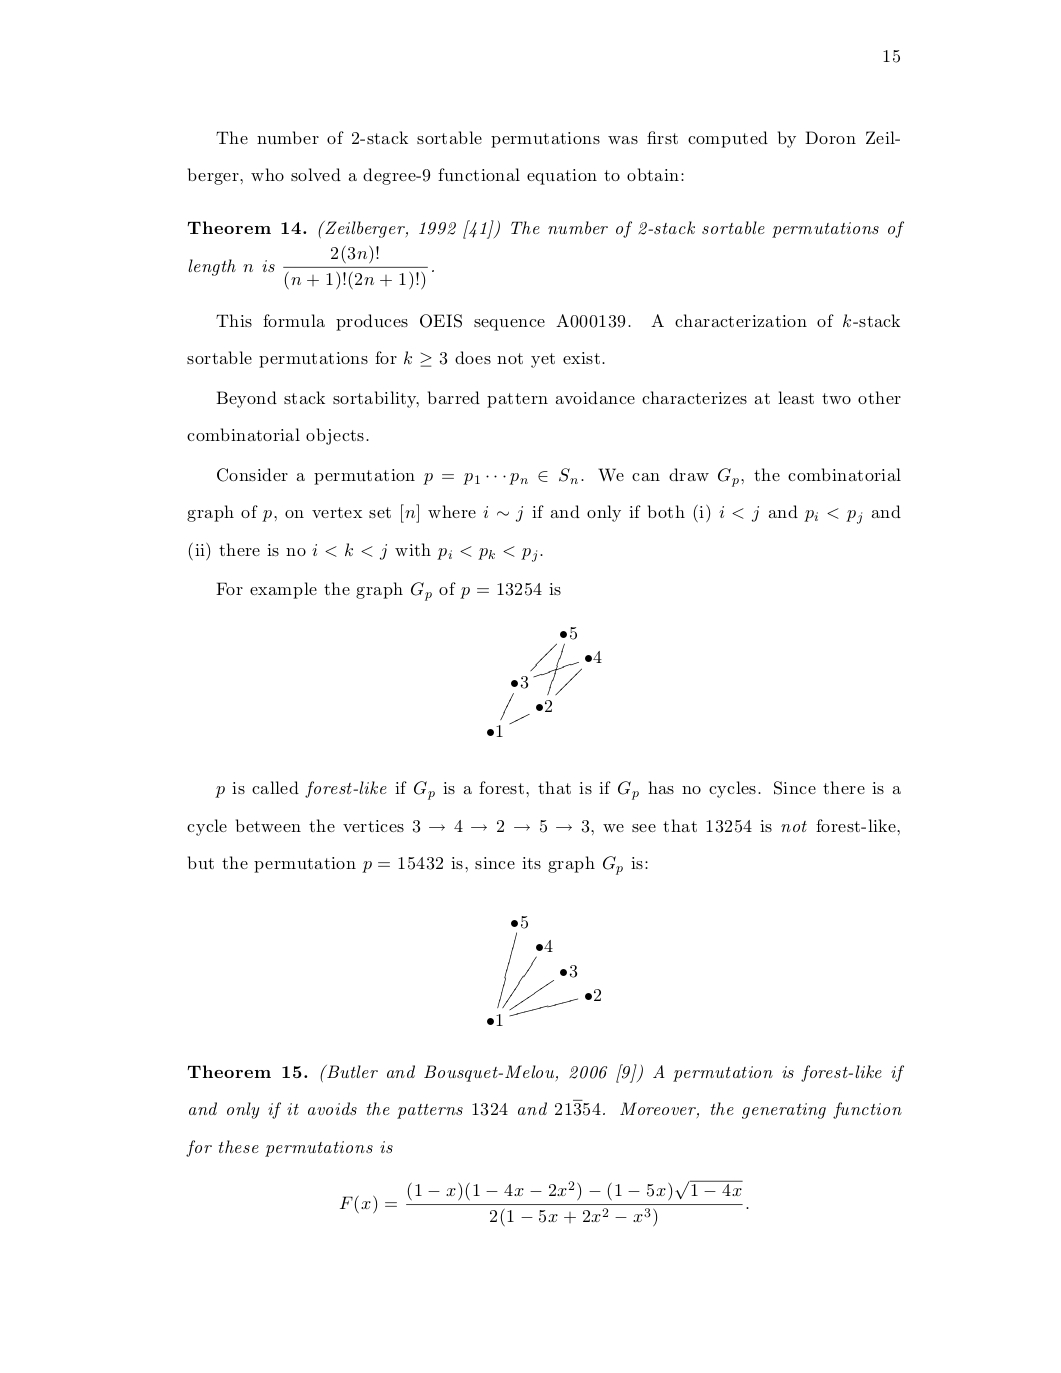figure: (487, 916, 600, 1025), (487, 627, 601, 736)
formula: (339, 1179, 748, 1227), (188, 244, 434, 290)
